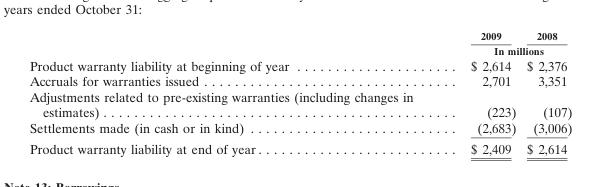table: (28, 29, 571, 155)
table column: (28, 29, 441, 155), (441, 29, 520, 155), (520, 29, 571, 155)
table column header: (28, 29, 571, 57)
table row: (28, 88, 571, 119), (28, 119, 571, 137), (28, 137, 571, 155), (28, 57, 571, 73), (28, 73, 571, 88), (28, 29, 571, 43), (28, 43, 571, 57)
table spanning cell: (441, 43, 571, 57)
